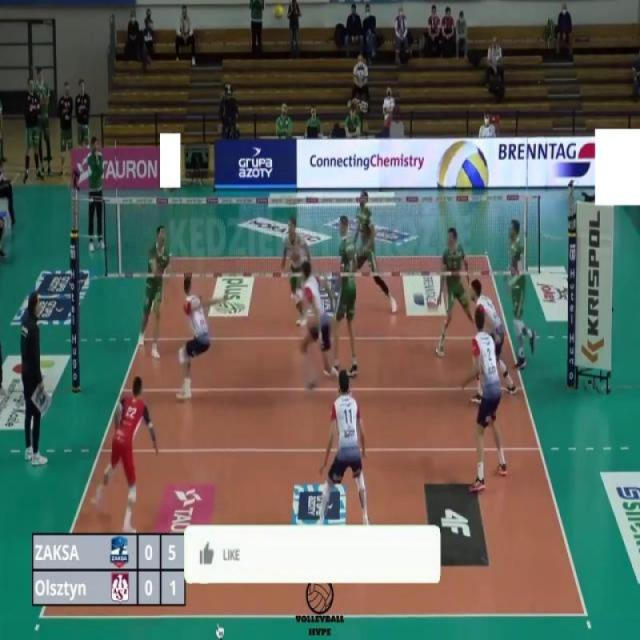volleyball: (434, 141, 490, 190), (272, 2, 284, 22)
